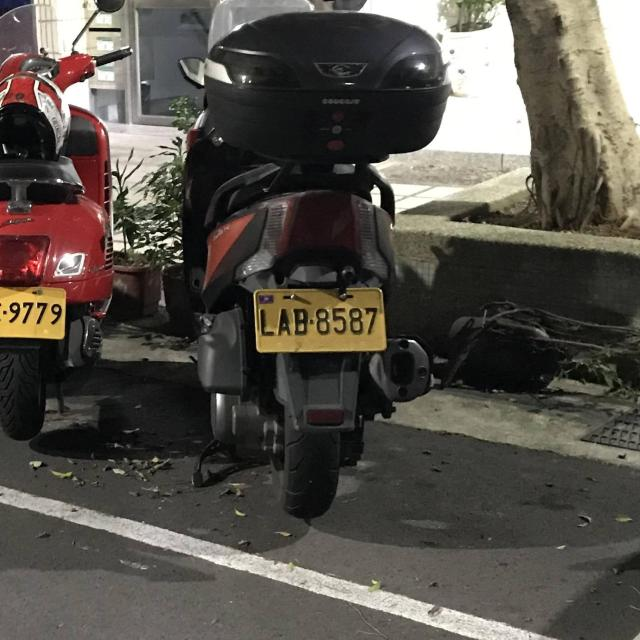Y: (247, 280, 390, 360), (0, 273, 73, 347)
